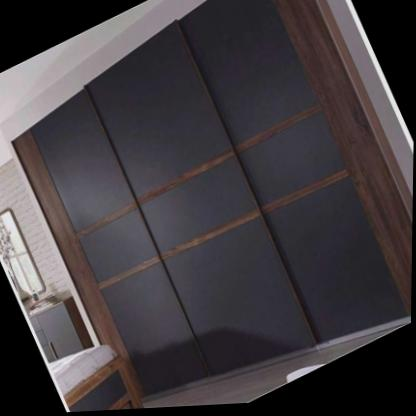Closet: (12, 0, 413, 400)
